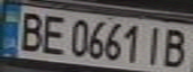0: (66, 16, 90, 58)
1: (121, 21, 145, 64)
6: (84, 18, 109, 61), (103, 20, 127, 62)
B: (12, 8, 48, 53), (160, 25, 193, 70)
E: (36, 11, 69, 56)
I: (139, 24, 169, 67)
